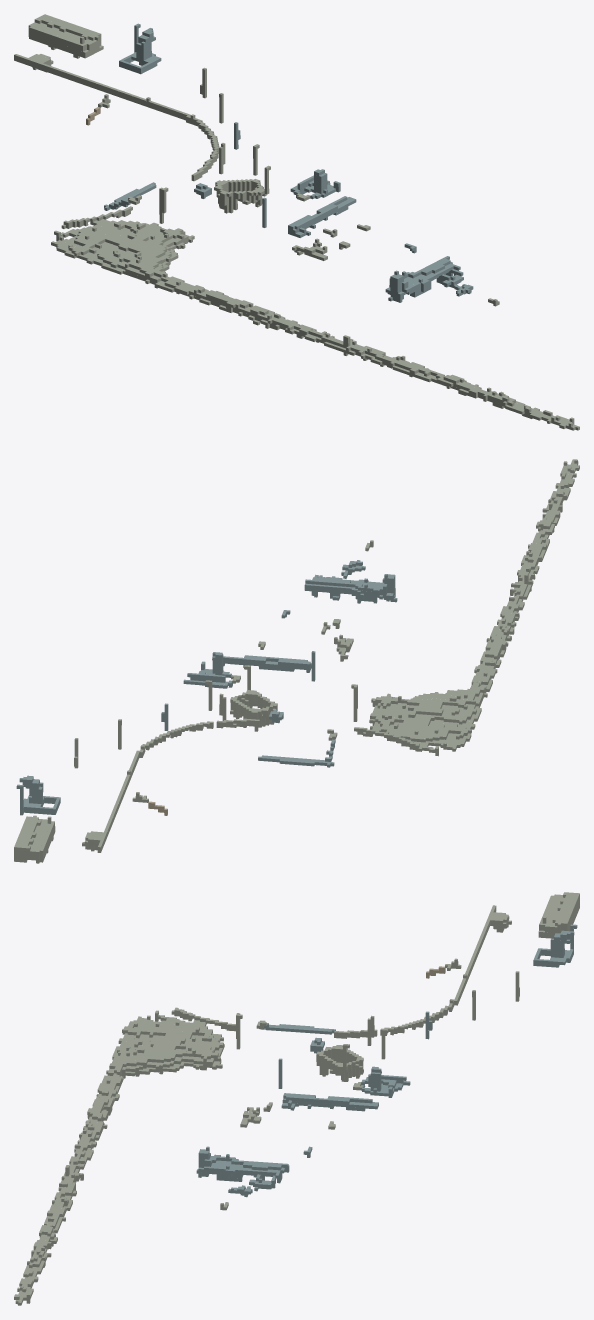
3 renders of one model, top to bottom at view 1: azimuth 30°, elevation 25°; view 2: azimuth 150°, elevation 25°; view 3: azimuth 330°, elevation 25°, orthographic.
Parts seen in each view (by area): view 1: measured-industrial; view 2: measured-industrial; view 3: measured-industrial.
Part boxes in pixels (bbox=[...]): measured-industrial: bbox=[14, 14, 579, 430]; measured-industrial: bbox=[14, 459, 579, 863]; measured-industrial: bbox=[14, 892, 579, 1305].
Size of the model in its own units: 99.98 by 16.89 by 343.
